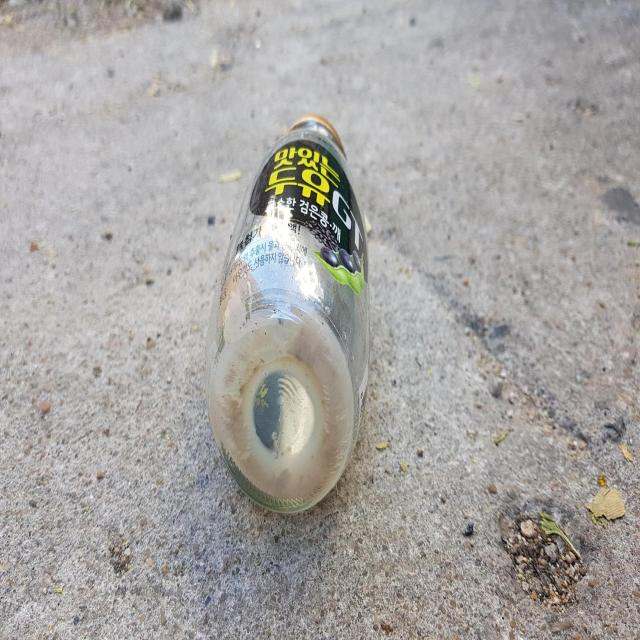glass: (206, 115, 369, 512)
